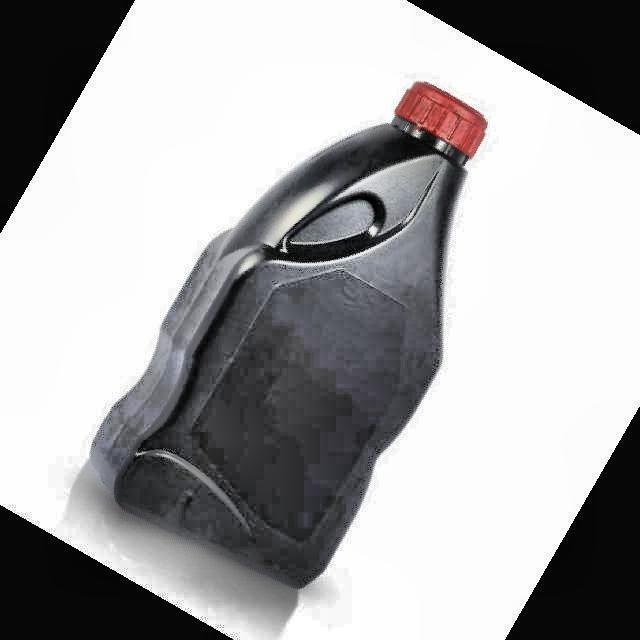plastic: (92, 82, 486, 587)
